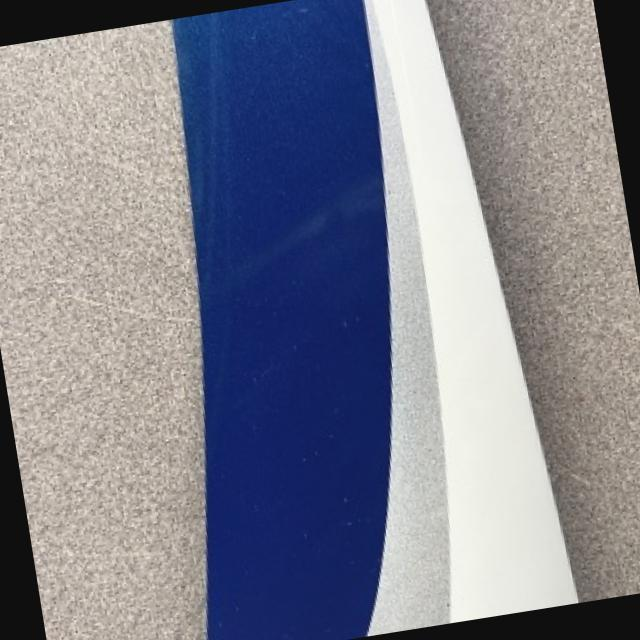healthy: (0, 20, 205, 640), (430, 0, 640, 600)
